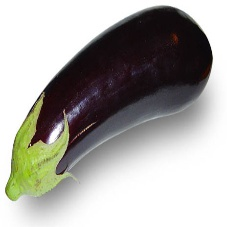eggplant: (15, 4, 215, 185)
